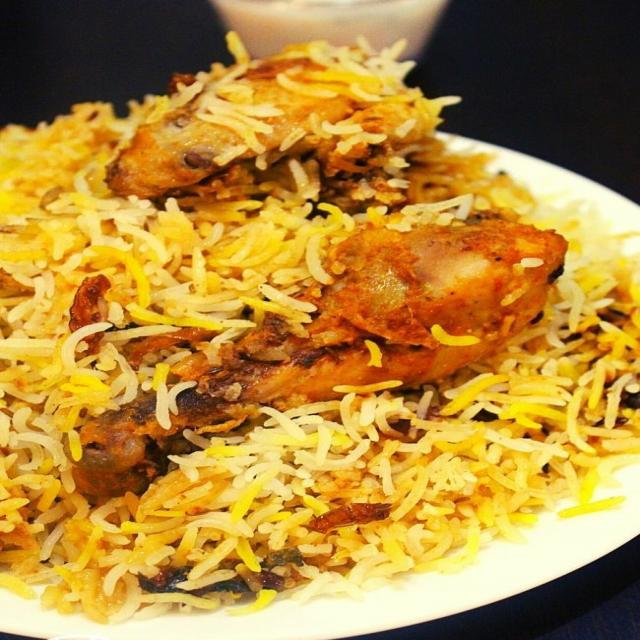Biryani: (0, 38, 640, 616)
